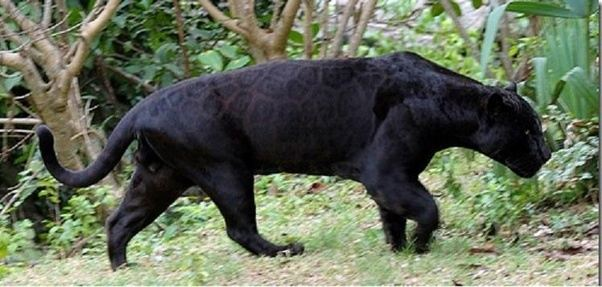panther: (40, 49, 553, 268)
